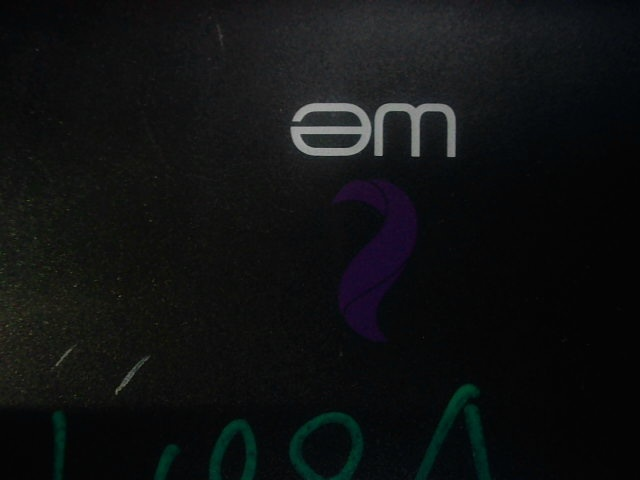AT_We: (275, 97, 464, 343)
